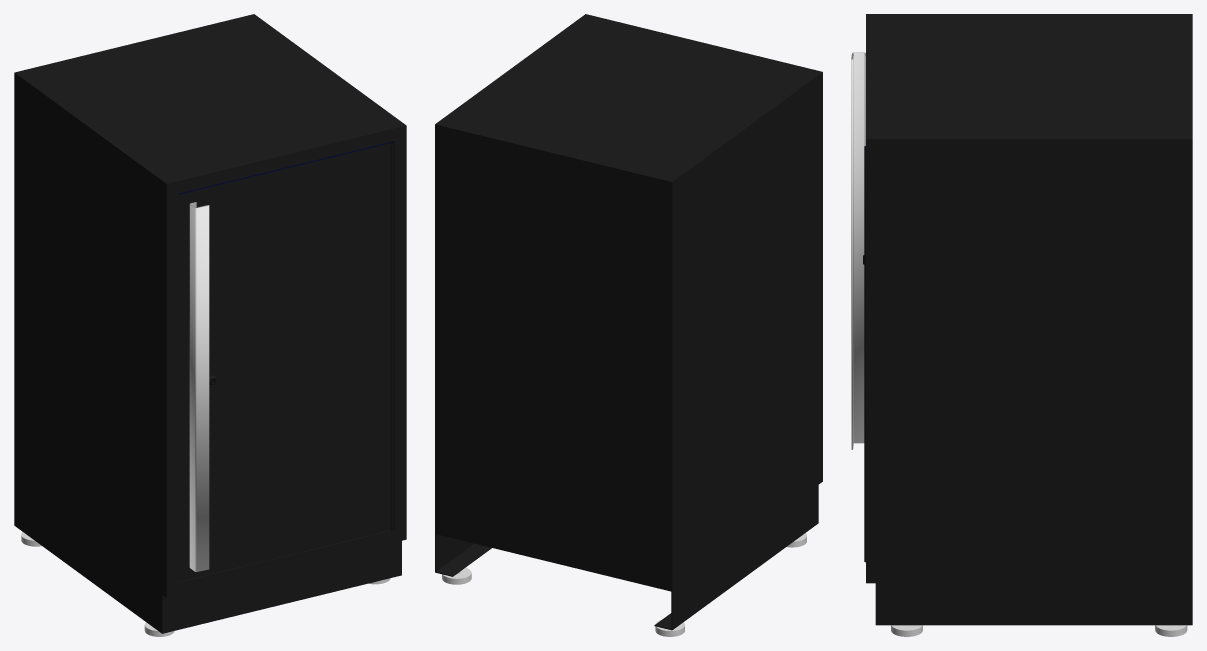
File: leftDoor1Base.glb
The picture shows the model from 3 angles, left to right: view 1: azimuth 30°, elevation 25°; view 2: azimuth 150°, elevation 25°; view 3: azimuth 270°, elevation 25°; orthographic projection. The views are drawn at different scales.
Visible parts, largest first — view 1: shellFp, doors, handlesFp, hingeFp; view 2: shellFp, baseFeet; view 3: shellFp, handlesFp, hingeFp, baseFeet.
Boxes of the visible parts, x1,y1,x2,y2 form: shellFp: (14,14,406,633); doors: (177,142,393,582); handlesFp: (189,202,209,571); hingeFp: (390,143,393,530); shellFp: (435,14,822,630); baseFeet: (442,533,806,636); shellFp: (866,14,1192,625); handlesFp: (851,52,865,449); hingeFp: (864,147,865,562); baseFeet: (891,625,1187,636).
Bounding box in the file's own units: 0.5123 × 0.9382 × 0.5842.
4 materials, 1 textured.
